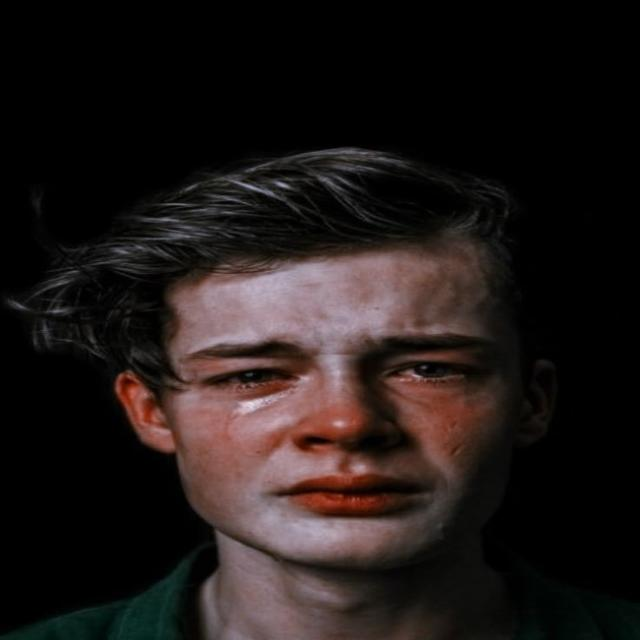sem_oculos: (107, 319, 565, 404)
